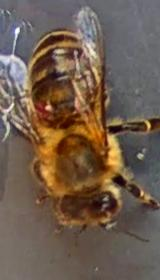varroa_mite: (24, 91, 64, 122)
